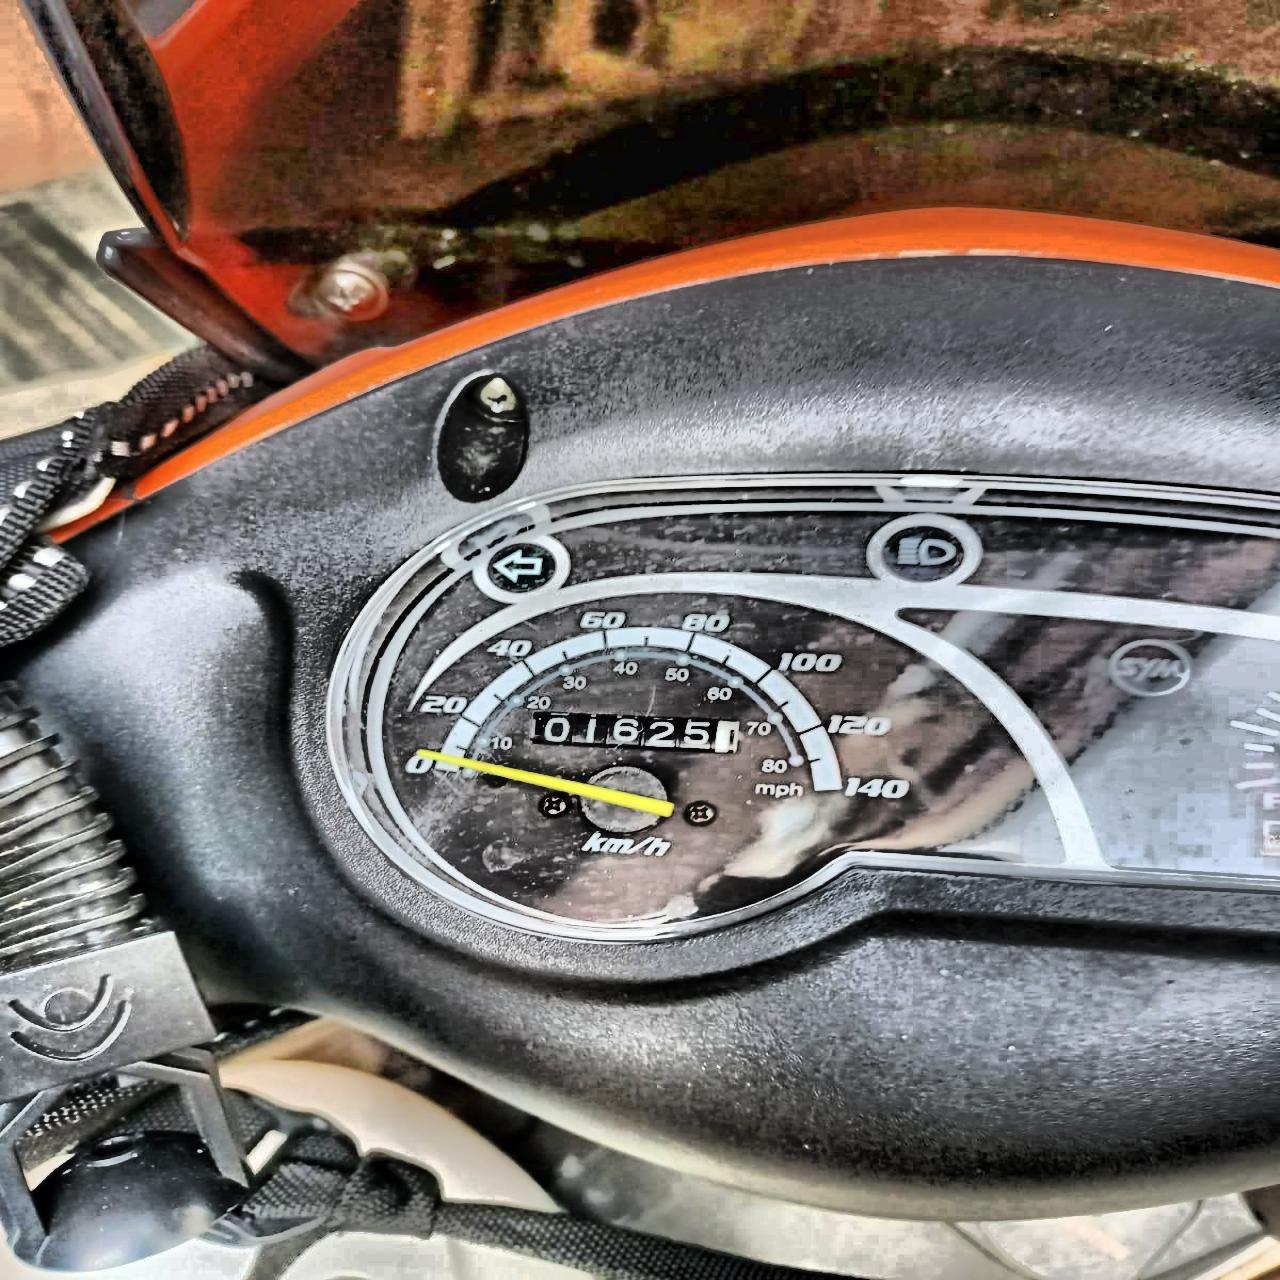0: (540, 716, 568, 740)
1: (722, 724, 738, 754), (583, 715, 598, 742)
2: (648, 720, 674, 747)
5: (683, 719, 712, 744)
6: (611, 716, 640, 741)
odometer: (530, 709, 744, 758)
